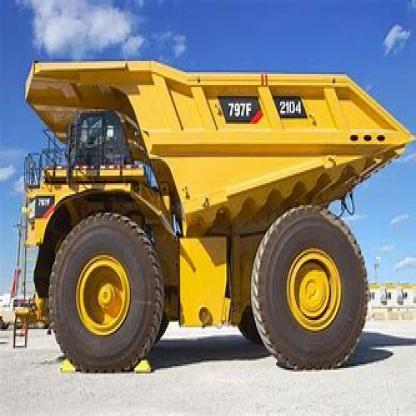dump_truck: (12, 35, 415, 379)
